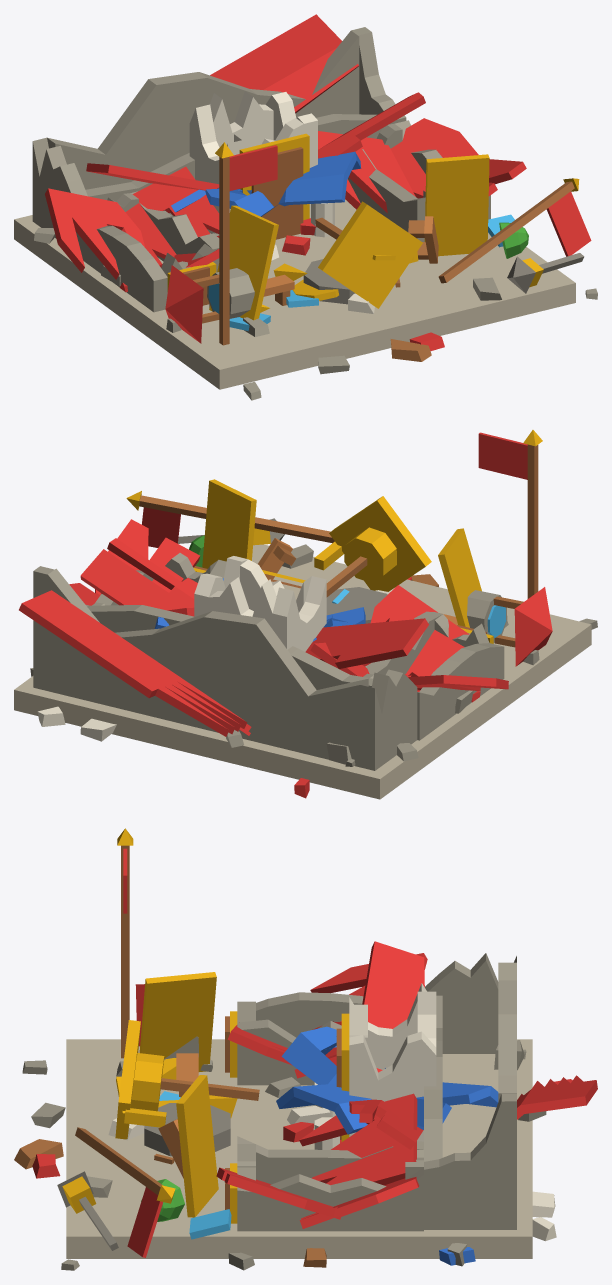
The model's file is university_t3_v3_dmg2.glb.
3 views of the same model, one above another, from view 1: azimuth 30°, elevation 25°; view 2: azimuth 150°, elevation 25°; view 3: azimuth 270°, elevation 25° (orthographic). The views are drawn at different scales.
Visible parts, largest first — view 1: university_t3_v3_dmg2; view 2: university_t3_v3_dmg2; view 3: university_t3_v3_dmg2.
Part boxes in pixels (left/top/right/bottom): university_t3_v3_dmg2: left=14, top=14, right=597, bottom=400; university_t3_v3_dmg2: left=14, top=430, right=597, bottom=799; university_t3_v3_dmg2: left=14, top=828, right=597, bottom=1270.
Size of the model in its own units: 0.9279 by 0.445 by 0.9391.
1 material, 1 textured.
